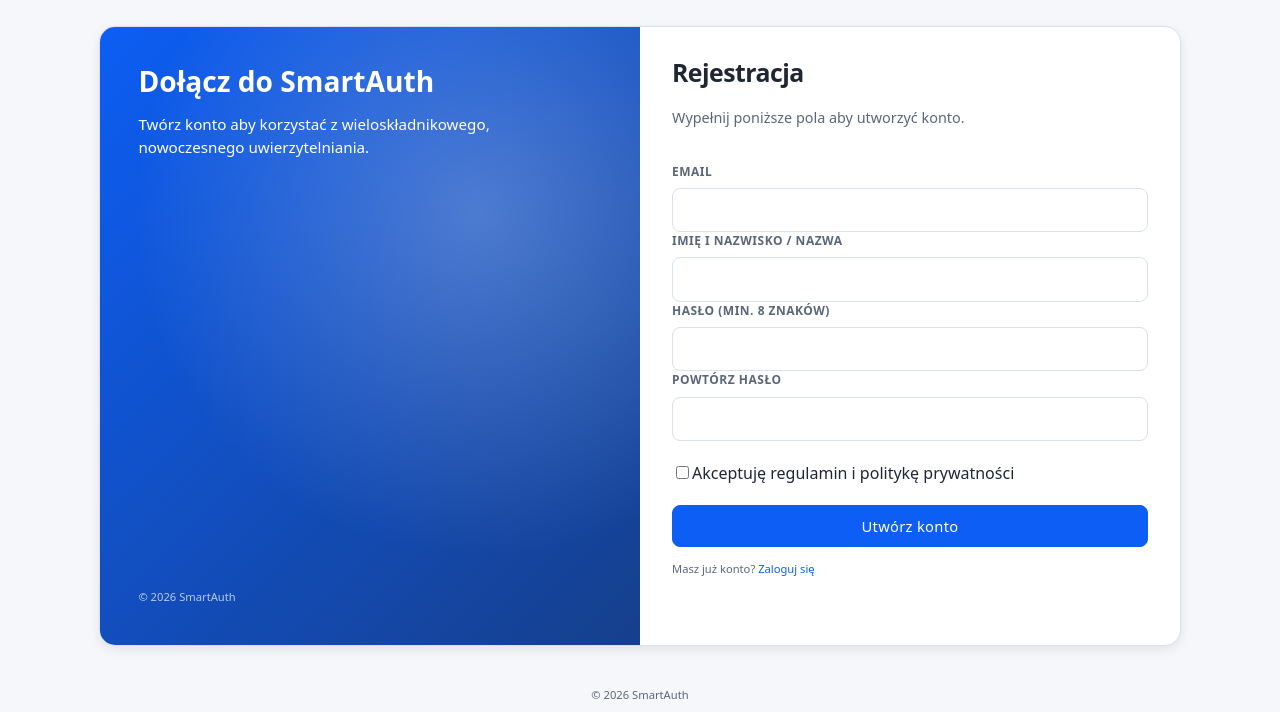
RegisterPage › wyświetla błąd z serwera przy nieudanej rejestracji
In the field labelled "Email": {"x": 910, "y": 210} [672,188,1148,232], type "john@example.com"
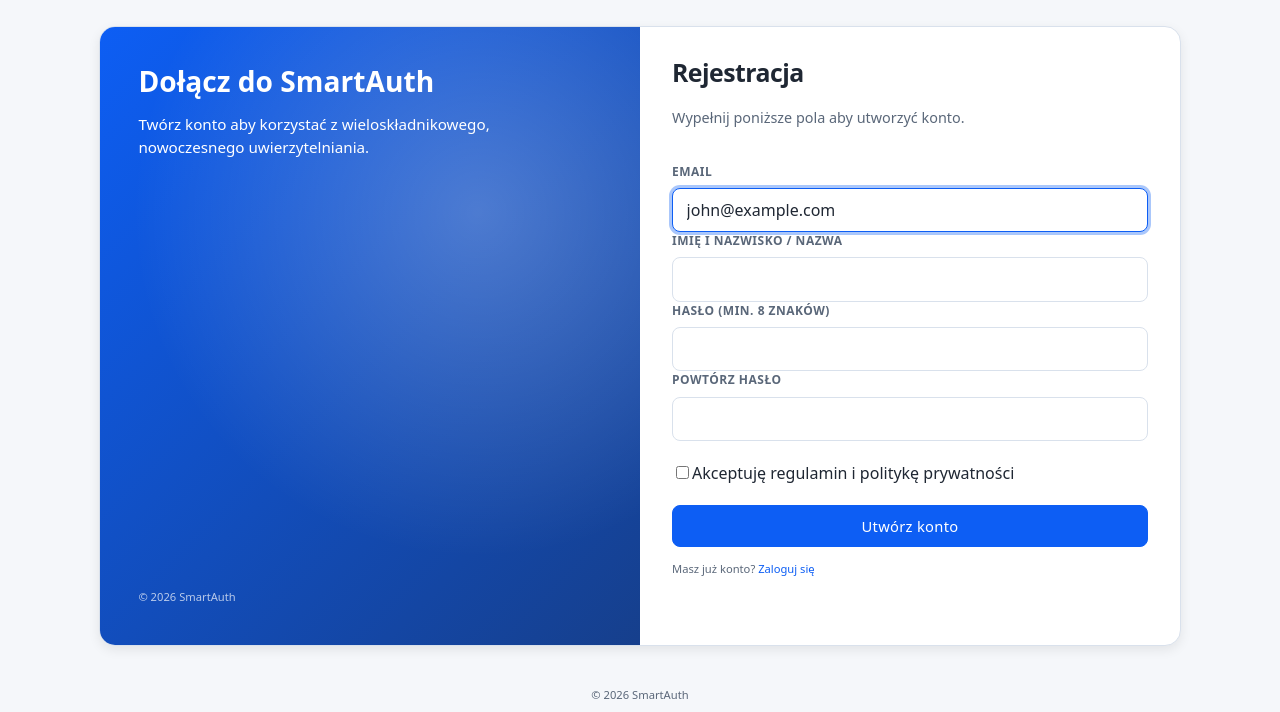
In the field labelled "Imię i nazwisko / nazwa": {"x": 910, "y": 280} [672,257,1148,302], type "John Doe"
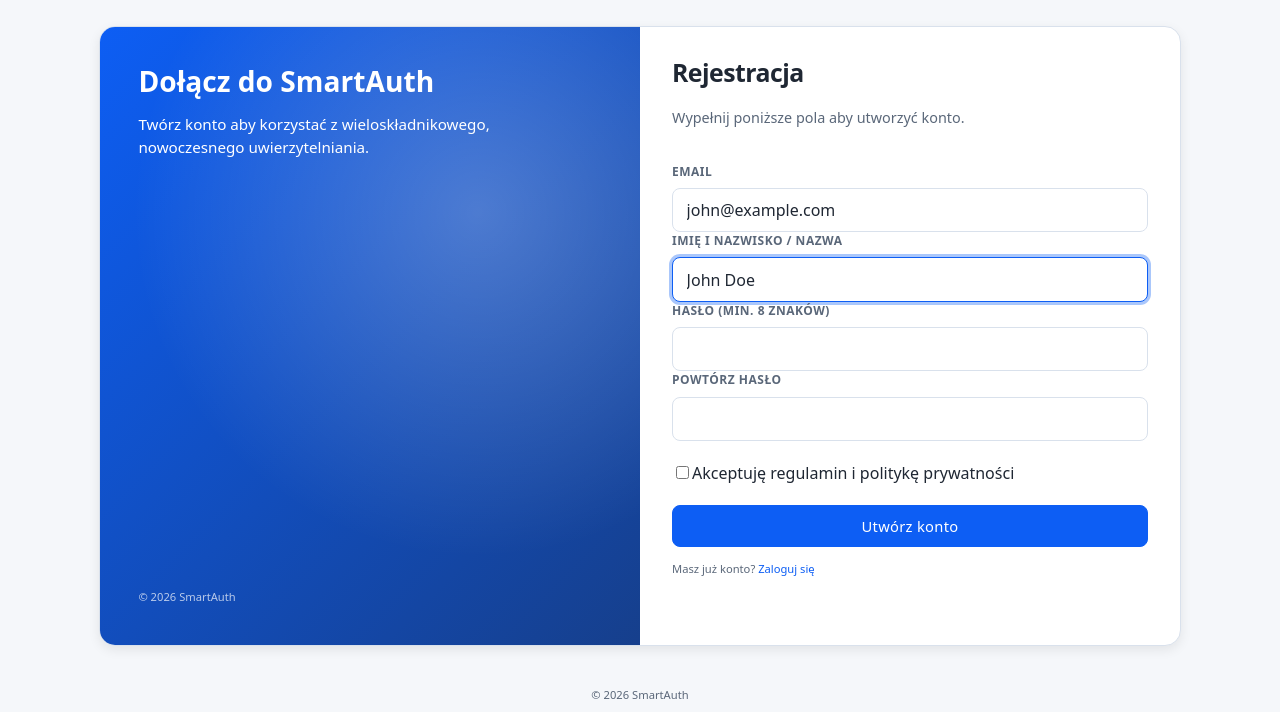
Click the checkbox: {"x": 682, "y": 472} [676,466,689,479]
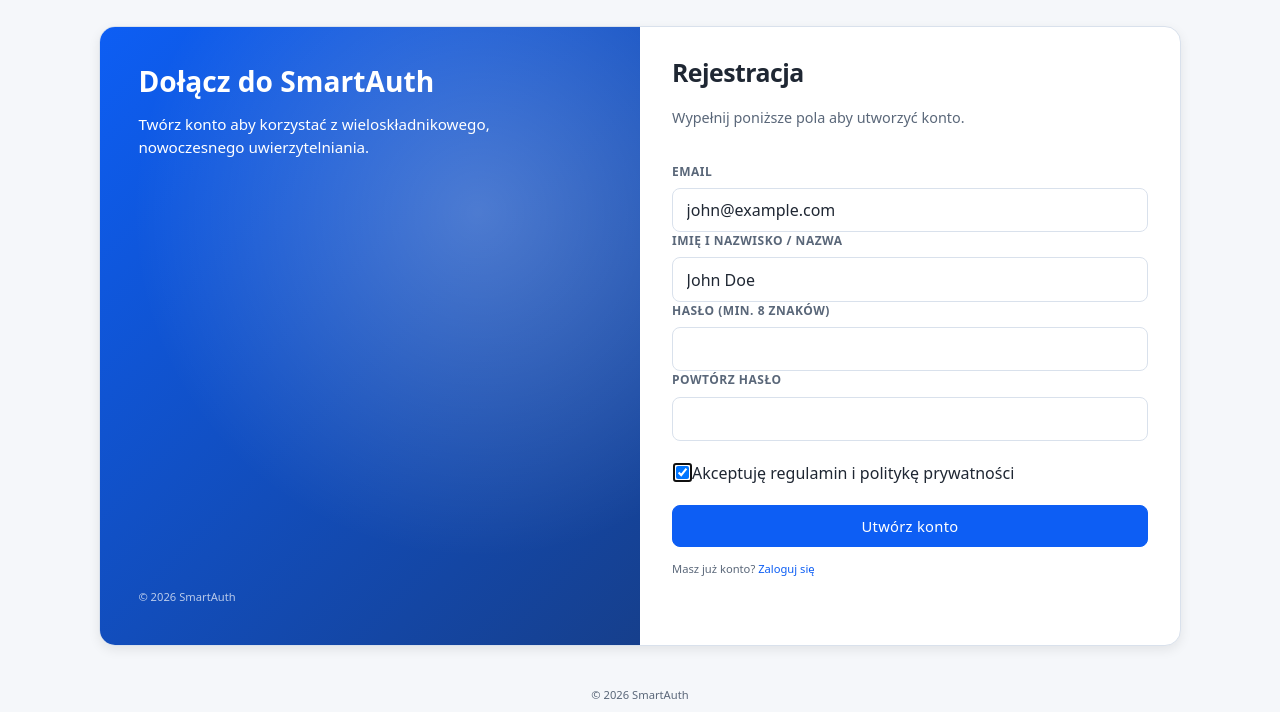
In the password field labelled "Hasło (min. 8 znaków)": {"x": 910, "y": 349} [672,327,1148,371], type "12345678"
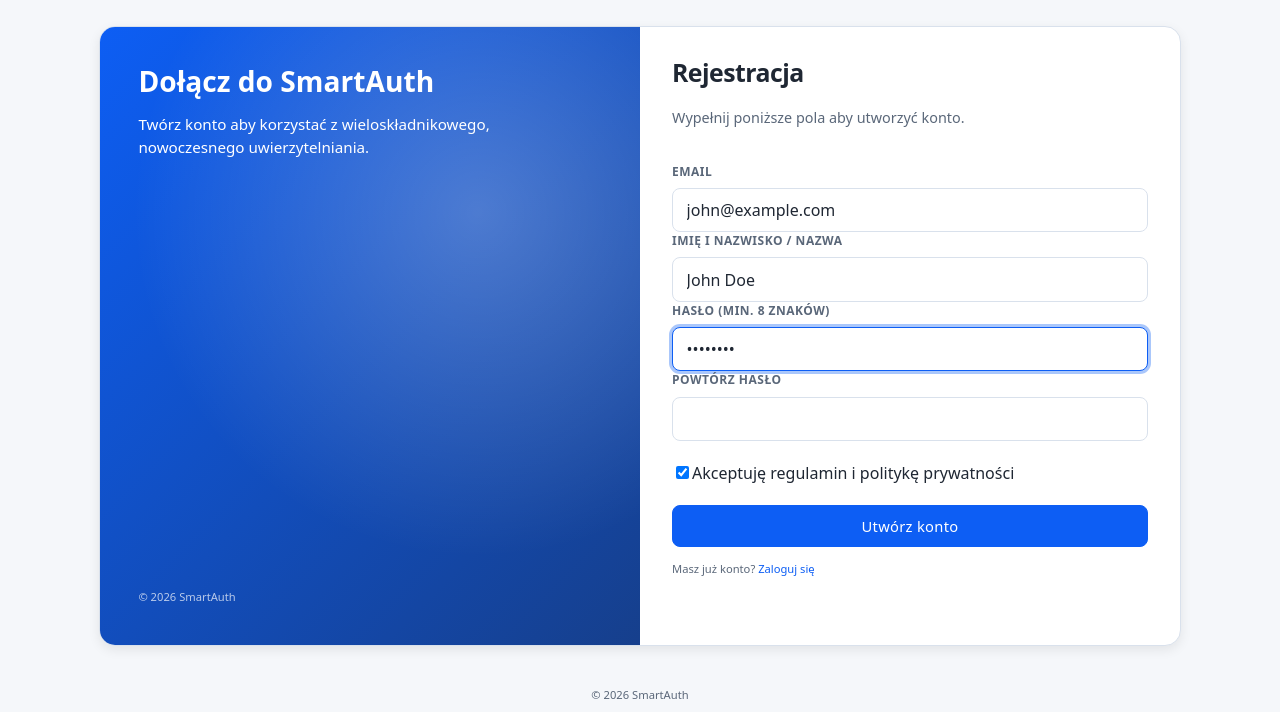
In the password field labelled "Powtórz hasło": {"x": 910, "y": 419} [672,396,1148,441], type "12345678"
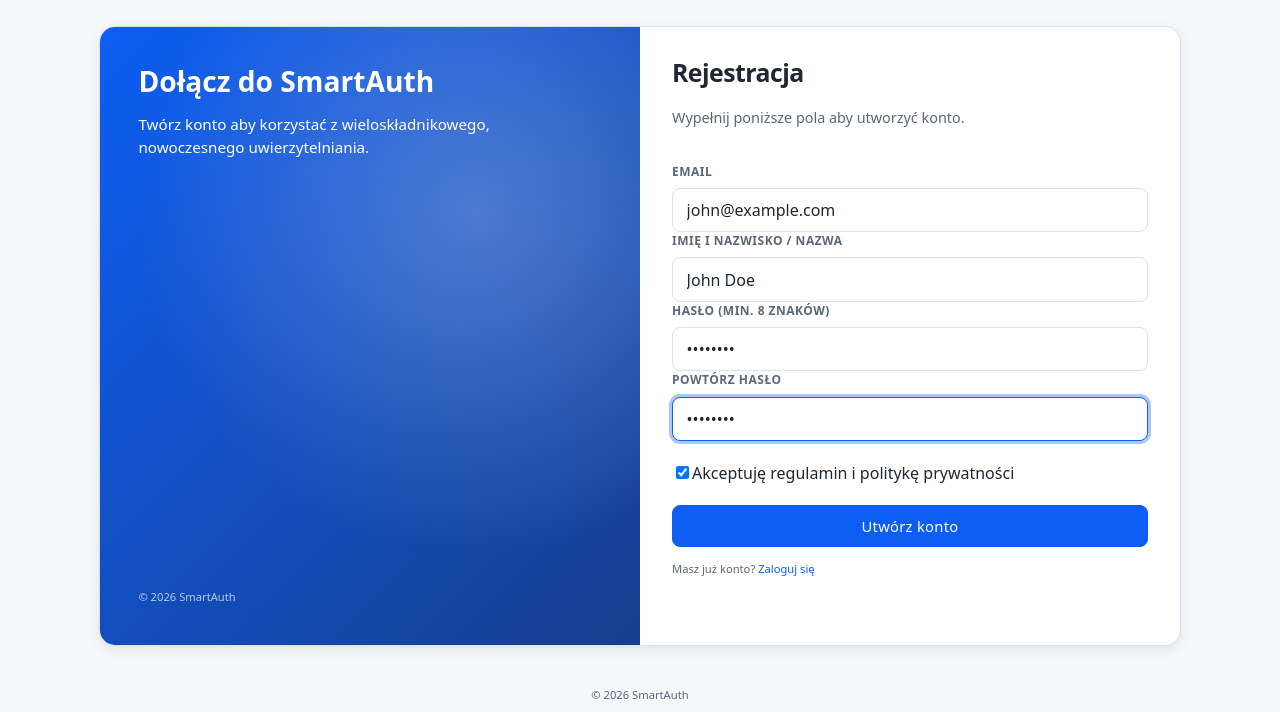
Submit the form named "Utwórz konto", box [672,59,1148,578]
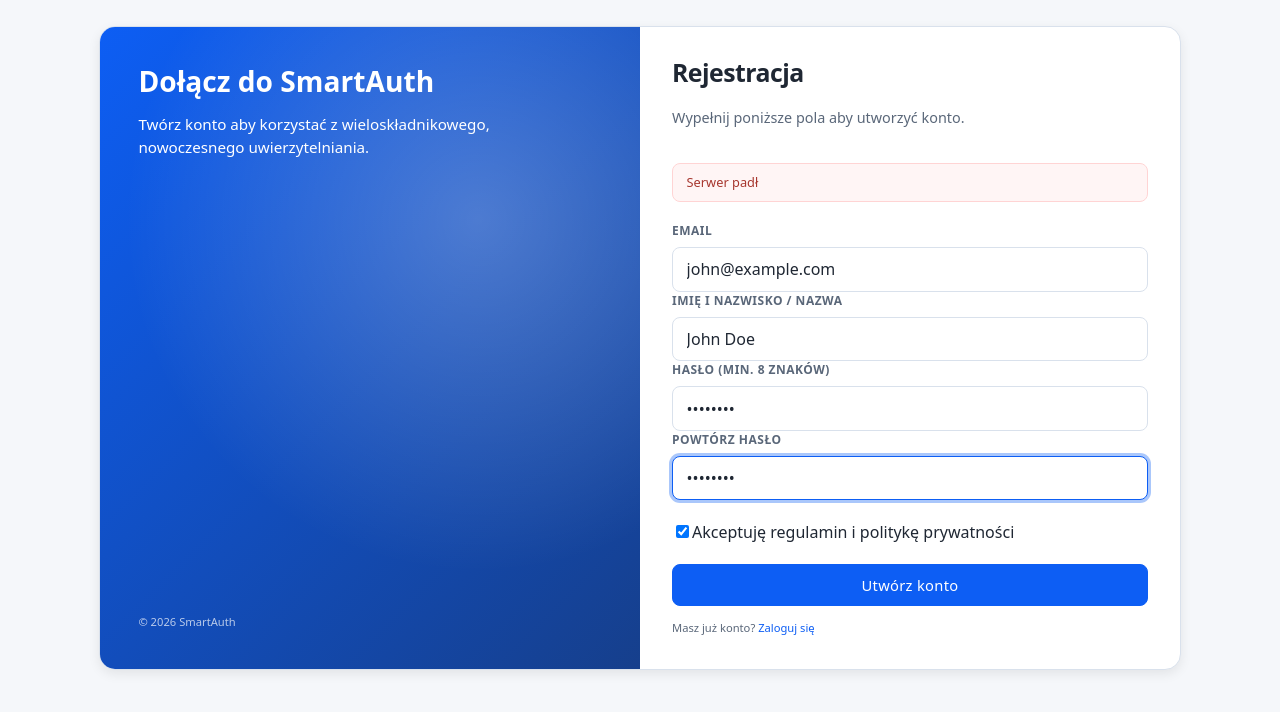
Result: the text "Serwer padł" is shown at [672,163,1148,202]
